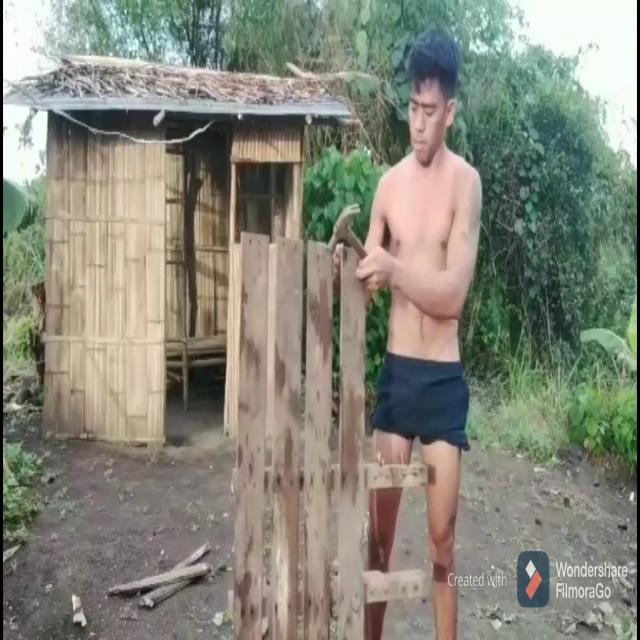hammer: (326, 202, 369, 262)
